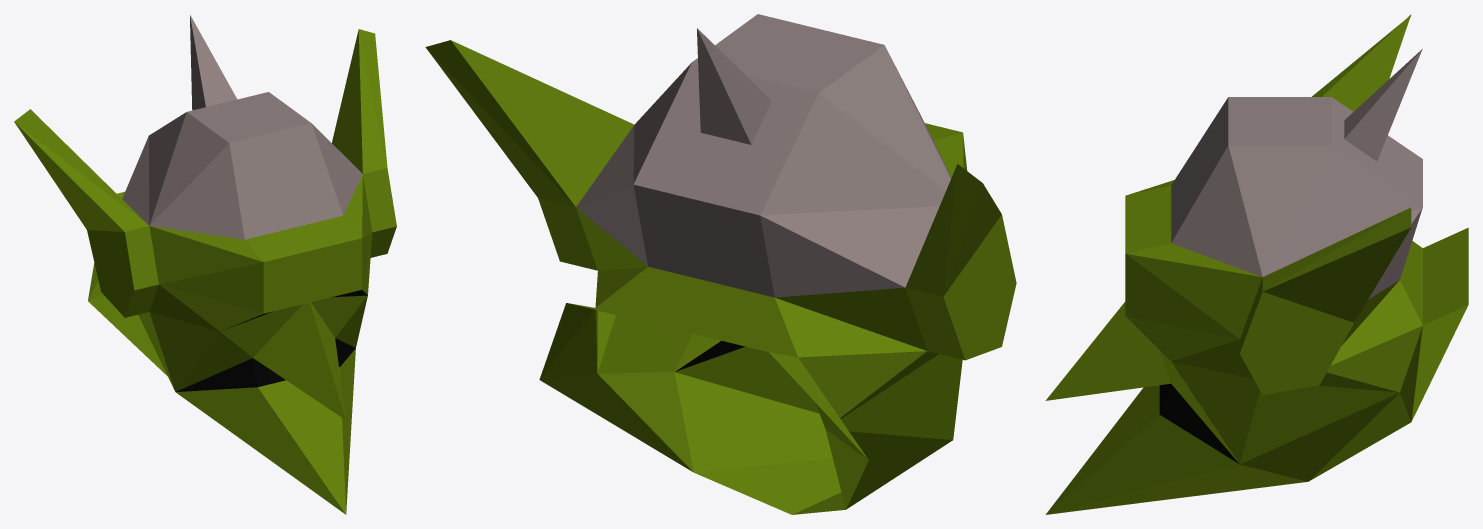
File: model_2952_npc.obj
3 views of the same model, side by side, from view 1: azimuth 30°, elevation 25°; view 2: azimuth 150°, elevation 25°; view 3: azimuth 270°, elevation 25° (orthographic). The views are drawn at different scales.
Visible parts, largest first — view 1: 2952; view 2: 2952; view 3: 2952.
Part boxes in pixels (x1=…): 2952: x1=14, y1=15, x2=396, y2=514; 2952: x1=425, y1=14, x2=1016, y2=514; 2952: x1=1045, y1=14, x2=1468, y2=514.
Bounding box in the file's own units: 44 × 45 × 37.
